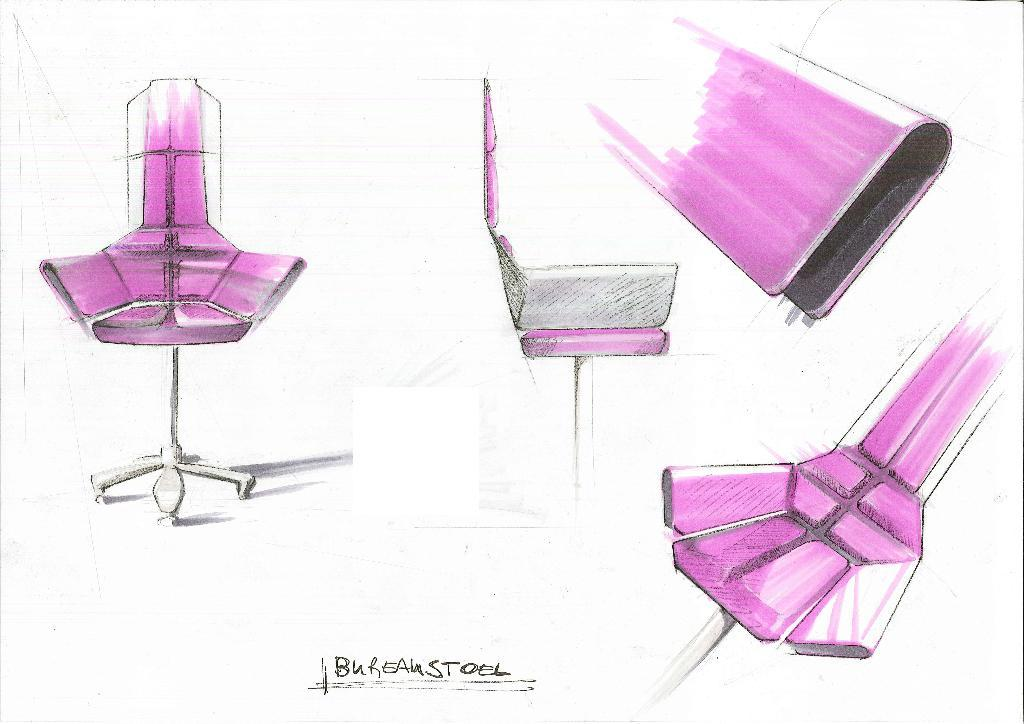Chair: (35, 81, 298, 539)
